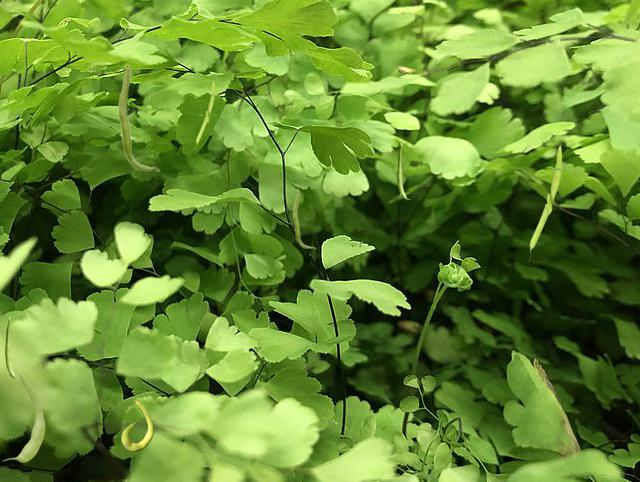french_bean: (117, 63, 159, 171), (528, 143, 562, 261), (2, 372, 44, 461), (121, 399, 152, 450), (292, 188, 315, 248), (195, 80, 214, 150), (5, 317, 18, 377), (397, 143, 409, 198)
